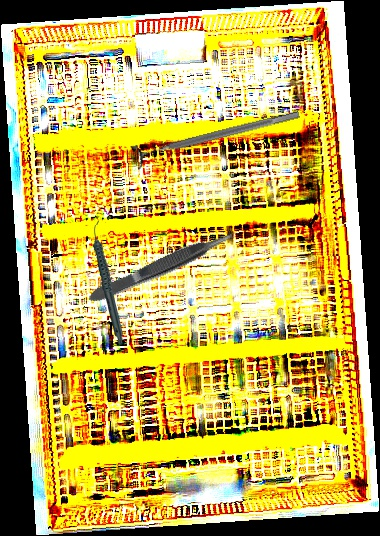Fixation Ring: (131, 101, 303, 172)
Handpiece: (90, 220, 126, 345)
Tissue Forceps: (84, 225, 242, 306)
